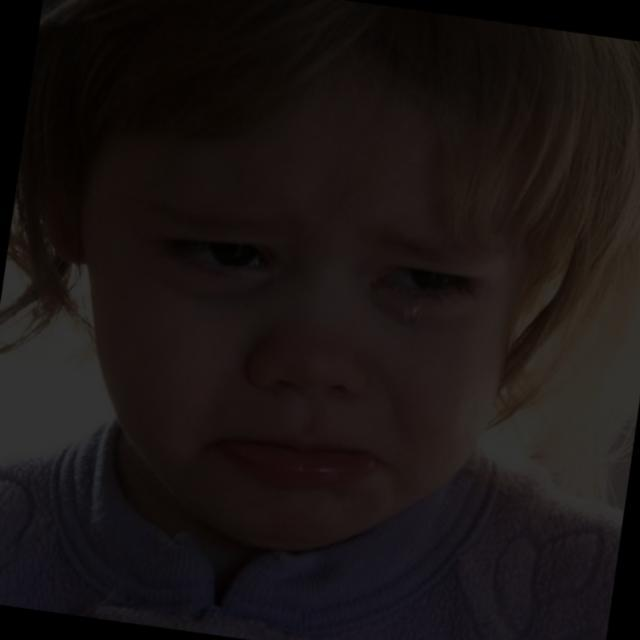Sad: (112, 119, 557, 579)
